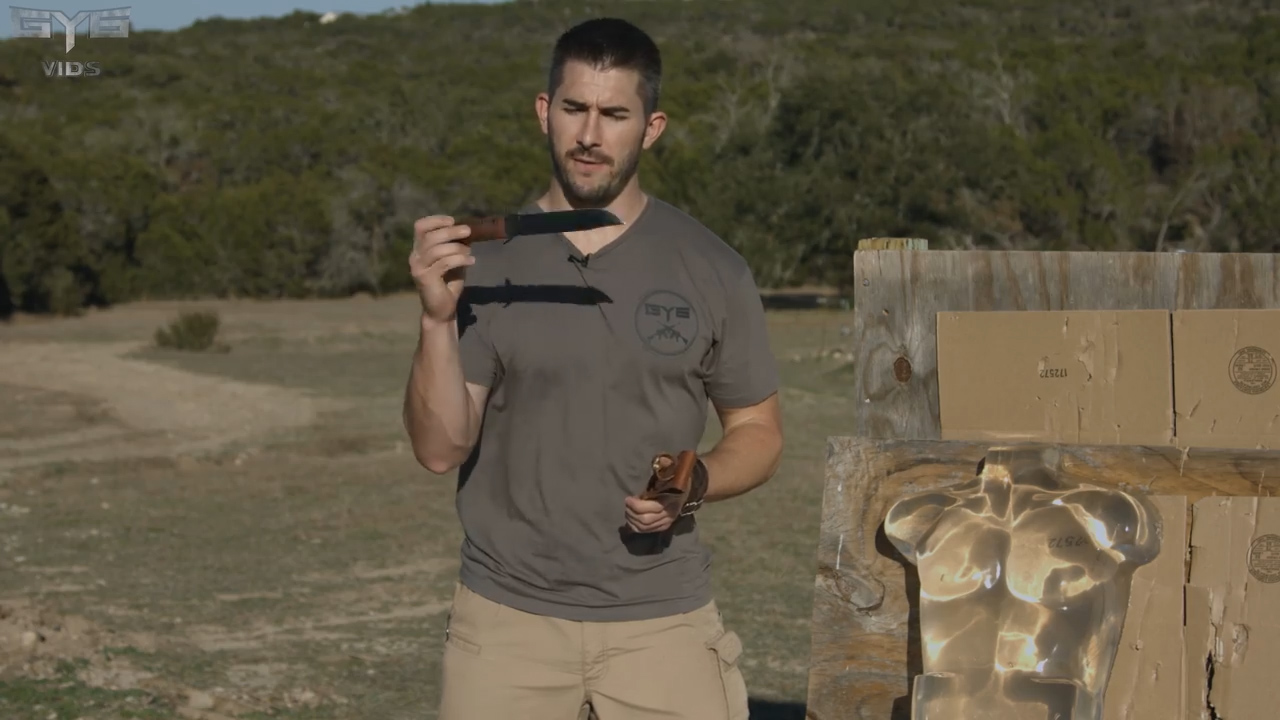knife: (399, 194, 638, 282)
